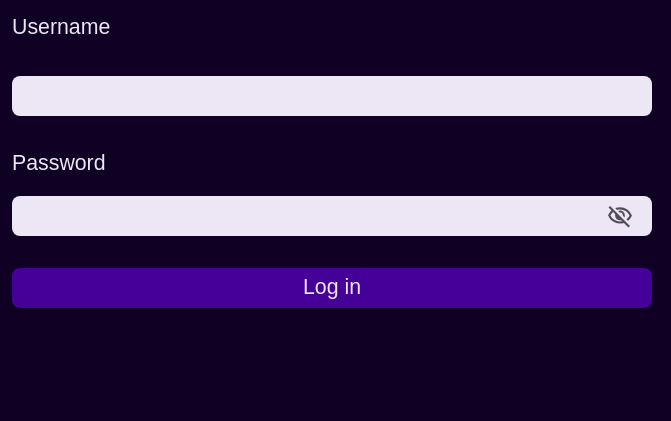
Render login page › Form submission failed if required fields are empty
Click the button "Log in" at (332, 288), box 12,268 -> 652,308
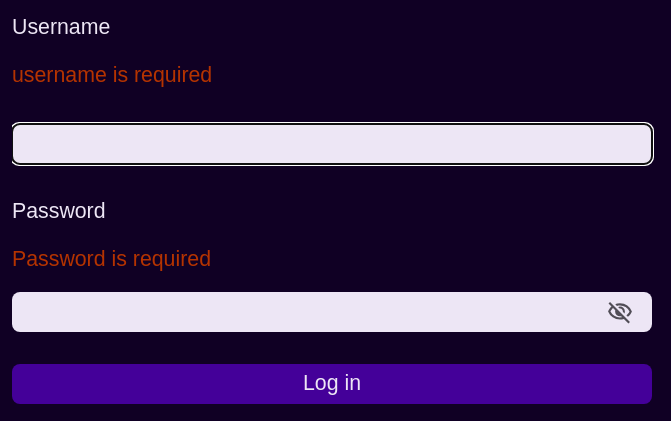
Result: the text with test id "rfh-username-err" reads "username is required" at 12,63 -> 212,87
Result: the text with test id "rfh-password-err" reads "Password is required" at 12,247 -> 211,271
